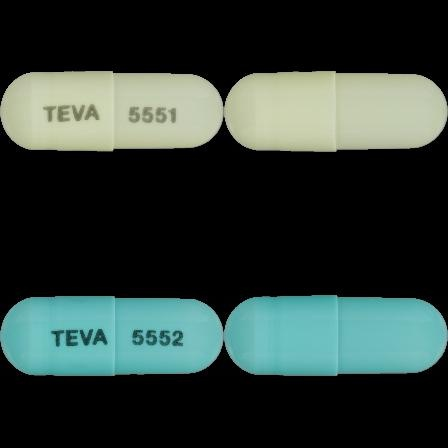0093-5551: (0, 0, 224, 224)
